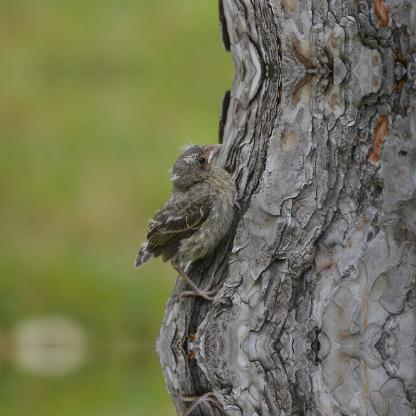Bird: (132, 138, 242, 312), (131, 377, 243, 415)
